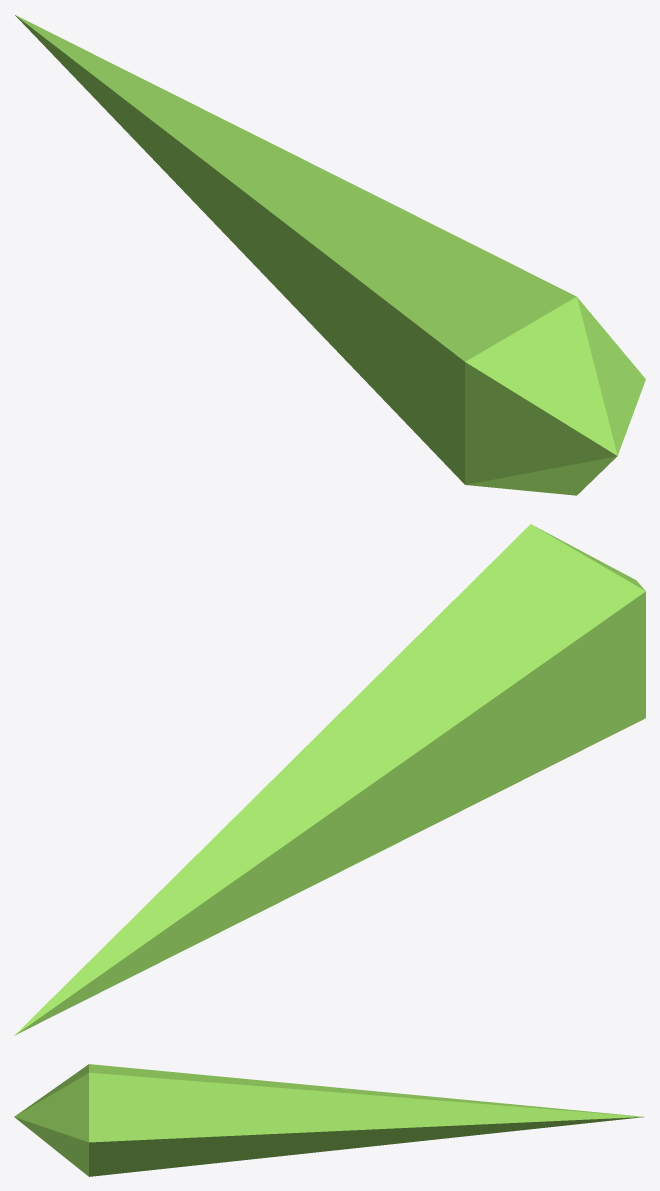
The model's file is blaster_green.glb.
3 renders of one model, top to bottom at view 1: azimuth 30°, elevation 25°; view 2: azimuth 150°, elevation 25°; view 3: azimuth 270°, elevation 25°, orthographic. The views are drawn at different scales.
Visible parts, largest first — view 1: Icosphere; view 2: Icosphere; view 3: Icosphere.
Boxes of the visible parts, x1,y1,x2,y2 form: Icosphere: (15, 15, 645, 495); Icosphere: (14, 524, 645, 1035); Icosphere: (14, 1064, 644, 1176).
Bounding box in the file's own units: 0.2161 × 0.2272 × 1.25.
